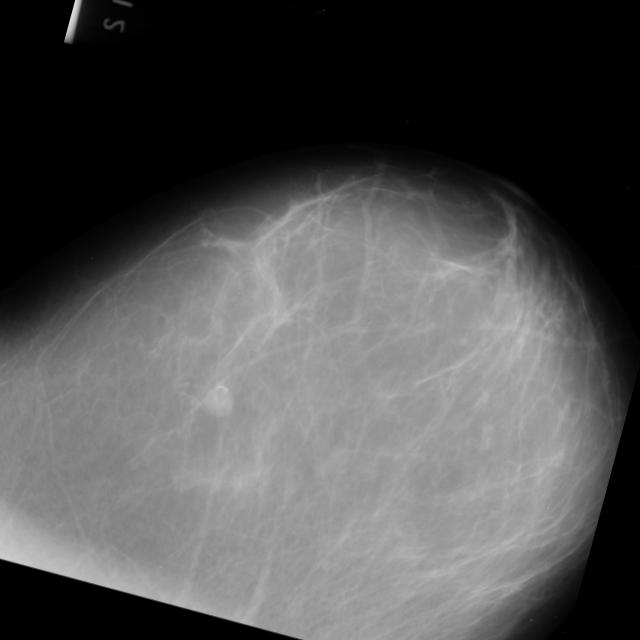CIRC: (0, 358, 230, 582)
